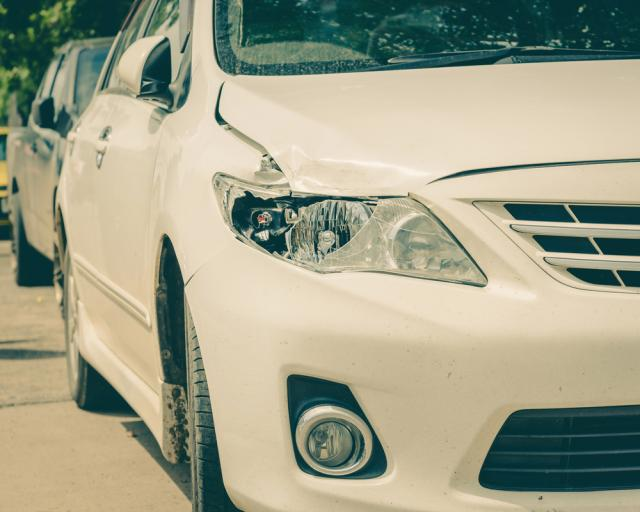dent: (276, 148, 412, 196), (254, 158, 287, 188)
lamp broken: (213, 173, 488, 284)
